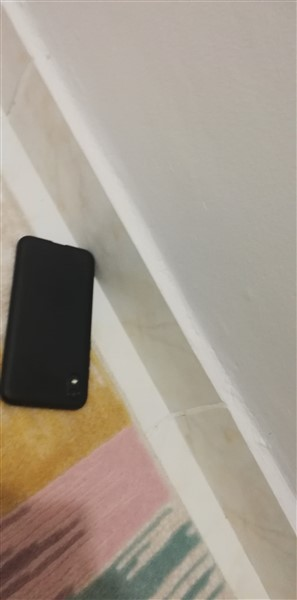telefon: (1, 233, 103, 419)
